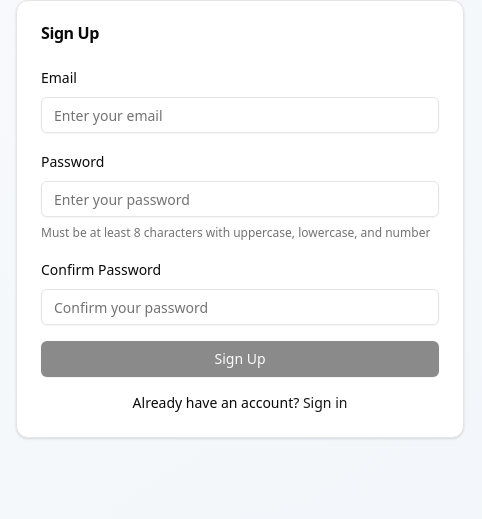
Scenario: SignUpForm › should show validation errors on form submission
Type "Password123" into the password field with id "signup-password".
click(240, 199); type("Password123")  # box [41, 181, 439, 217]
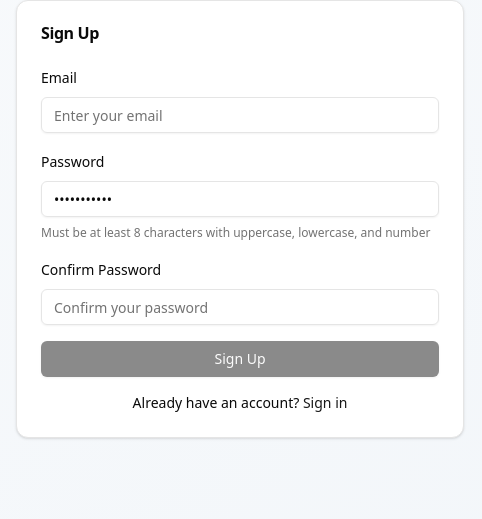
Type "DifferentPassword" into the password field with id "signup-confirm-password".
click(240, 307); type("DifferentPassword")  # box [41, 289, 439, 325]
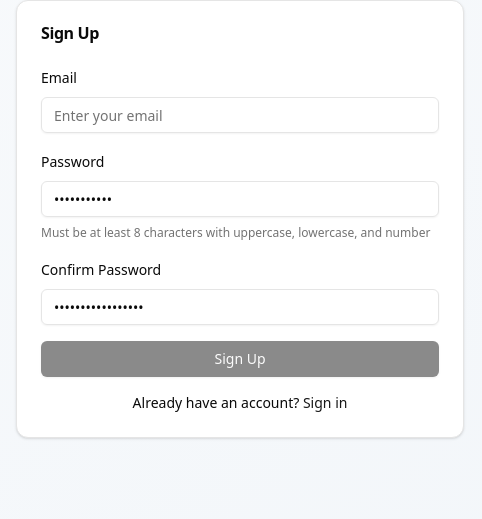
Submit the form, box [41, 65, 439, 377]
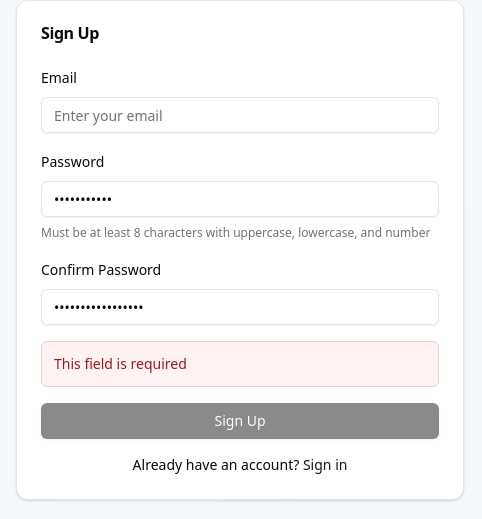
Check: the text "This field is required" is shown, box [54, 354, 187, 373]
